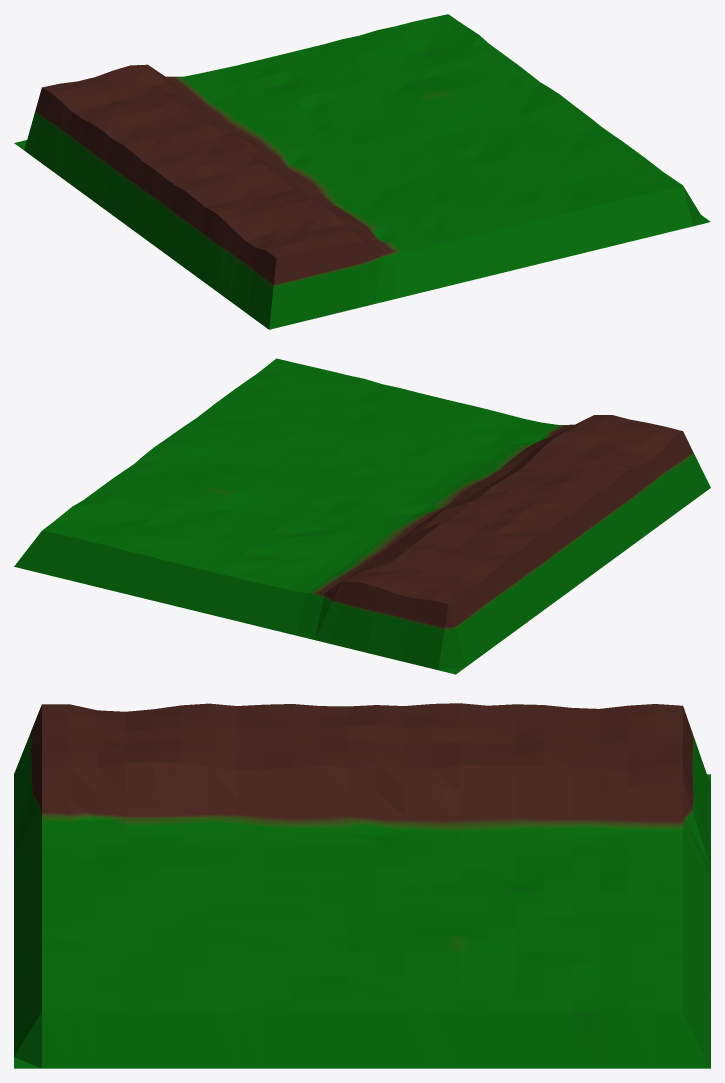
The model's file is Tile10.fbx.
3 renders of one model, top to bottom at view 1: azimuth 30°, elevation 25°; view 2: azimuth 150°, elevation 25°; view 3: azimuth 270°, elevation 25°, orthographic. The views are drawn at different scales.
Parts seen in each view (by area): view 1: ImageToStl.com_10; view 2: ImageToStl.com_10; view 3: ImageToStl.com_10.
Part boxes in pixels (box(x1,y1,x2,y2)): ImageToStl.com_10: box(14, 14, 710, 329); ImageToStl.com_10: box(14, 358, 710, 674); ImageToStl.com_10: box(14, 703, 710, 1068).
Size of the model in its own units: 10417 by 1388 by 10417.
1 material, 1 textured.
